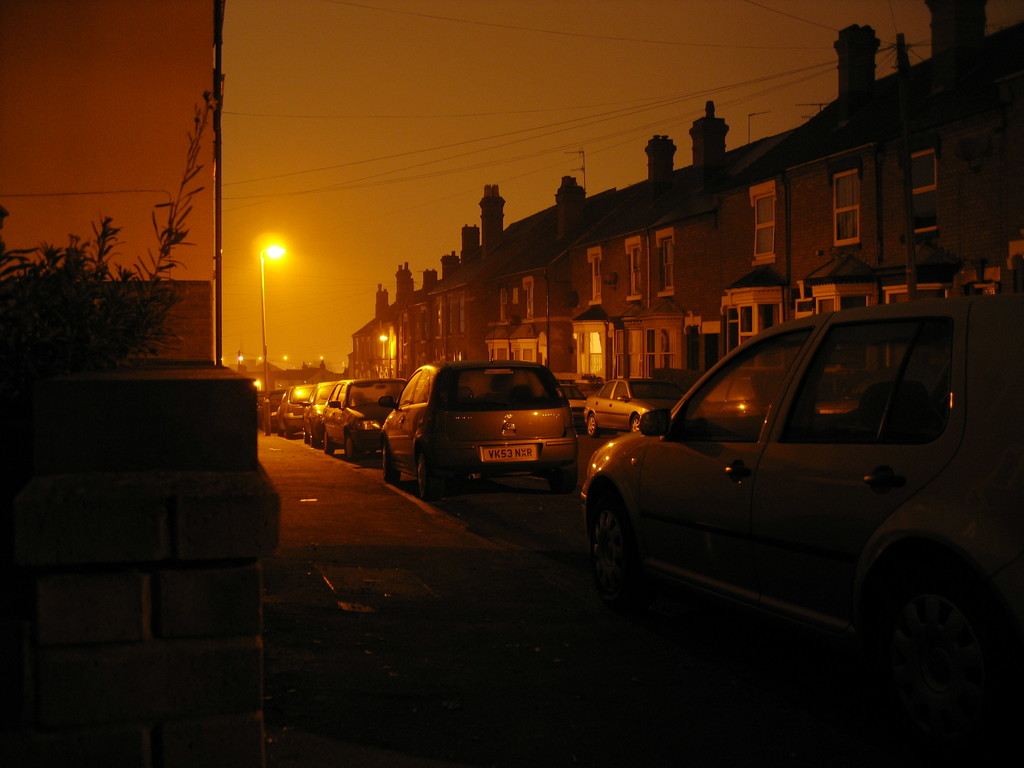Car: (569, 296, 992, 679), (256, 321, 858, 505)
